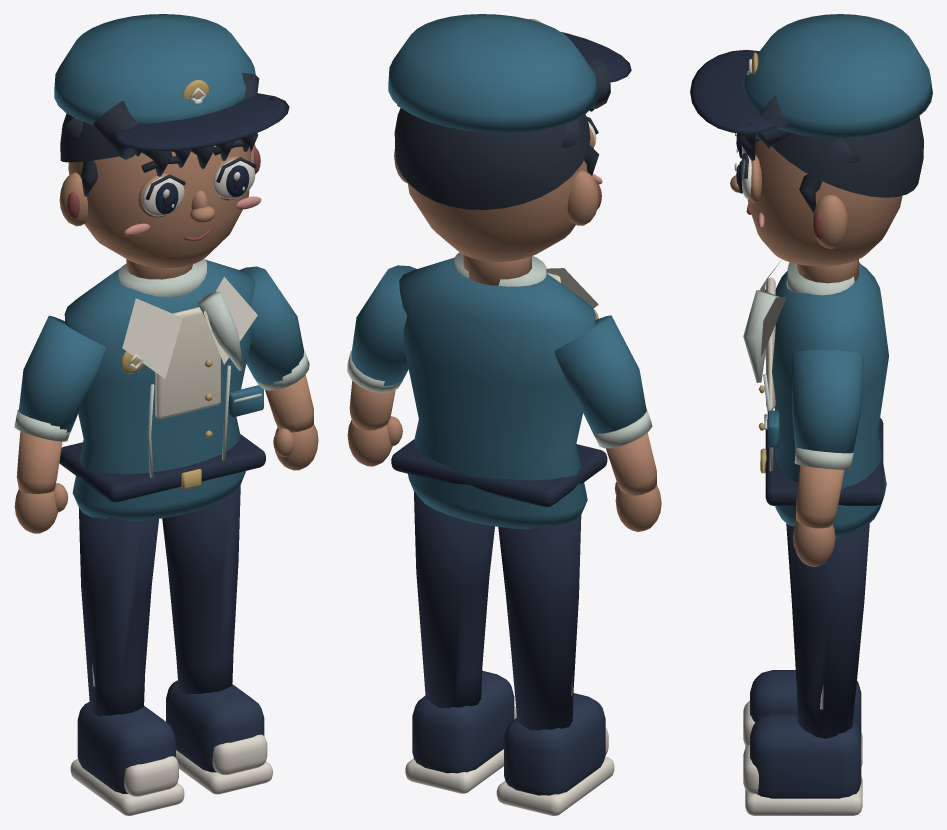
Rendered from blocky_character_e.glb.
3 renders of one model, left to right at view 1: azimuth 30°, elevation 25°; view 2: azimuth 150°, elevation 25°; view 3: azimuth 270°, elevation 25°, orthographic. The views are drawn at different scales.
Visible parts, largest first — view 1: figure.004; view 2: figure.004; view 3: figure.004.
Boxes of the visible parts, box(x1,y1,x2,y2) form: figure.004: box(14, 14, 318, 815); figure.004: box(347, 14, 661, 815); figure.004: box(690, 14, 932, 815).
Bounding box in the file's own units: 1.06 × 2.5 × 0.7393.
